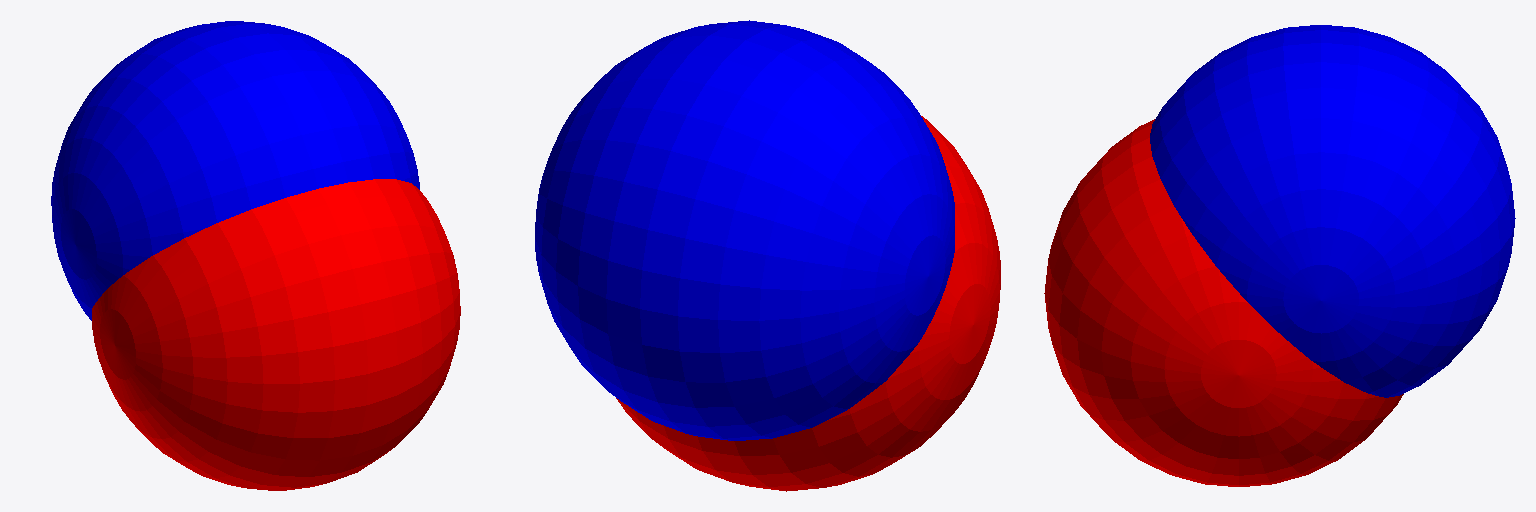
The robot description file, URDF, robot "panda":
<?xml version="1.0" ?>
<robot name="panda" xmlns:xacro="http://www.ros.org/wiki/xacro">
    <link name="panda_link0">
        <visual>
            <geometry>
                <mesh filename="../../urdf/franka_description/meshes/visual/link0.dae"/>
            </geometry>
        </visual>
        <collision>
            <geometry>
                <mesh filename="../../urdf/franka_description/meshes/collision/link0.obj"/>
            </geometry>
        </collision>
    </link>
    <link name="panda_link1">
        <visual>
            <geometry>
                <mesh filename="../../urdf/franka_description/meshes/visual/link1.dae"/>
            </geometry>
        </visual>
        <collision>
            <geometry>
                <mesh filename="../../urdf/franka_description/meshes/collision/link1.obj"/>
            </geometry>
        </collision>
    </link>
    <joint name="panda_joint1" type="revolute">
        <origin rpy="0 0 0" xyz="0 0 0.333"/>
        <parent link="panda_link0"/>
        <child link="panda_link1"/>
        <axis xyz="0 0 1"/>
        <dynamics damping="10.0"/>
        <limit effort="87" lower="-2.8973" upper="2.8973" velocity="2.1750"/>
    </joint>
    <link name="panda_link2">
        <visual>
            <geometry>
                <mesh filename="../../urdf/franka_description/meshes/visual/link2.dae"/>
            </geometry>
        </visual>
        <collision>
            <geometry>
                <mesh filename="../../urdf/franka_description/meshes/collision/link2.obj"/>
            </geometry>
        </collision>
    </link>
    <joint name="panda_joint2" type="revolute">
        <origin rpy="-1.57079632679 0 0" xyz="0 0 0"/>
        <parent link="panda_link1"/>
        <child link="panda_link2"/>
        <axis xyz="0 0 1"/>
        <dynamics damping="10.0"/>
        <limit effort="87" lower="-1.7628" upper="1.7628" velocity="2.1750"/>
    </joint>
    <link name="panda_link3">
        <visual>
            <geometry>
                <mesh filename="../../urdf/franka_description/meshes/visual/link3.dae"/>
            </geometry>
        </visual>
        <collision>
            <geometry>
                <mesh filename="../../urdf/franka_description/meshes/collision/link3.obj"/>
            </geometry>
        </collision>
    </link>
    <joint name="panda_joint3" type="revolute">
        <origin rpy="1.57079632679 0 0" xyz="0 -0.316 0"/>
        <parent link="panda_link2"/>
        <child link="panda_link3"/>
        <axis xyz="0 0 1"/>
        <dynamics damping="10.0"/>
        <limit effort="87" lower="-2.8973" upper="2.8973" velocity="2.1750"/>
    </joint>
    <link name="panda_link4">
        <visual>
            <geometry>
                <mesh filename="../../urdf/franka_description/meshes/visual/link4.dae"/>
            </geometry>
        </visual>
        <collision>
            <geometry>
                <mesh filename="../../urdf/franka_description/meshes/collision/link4.obj"/>
            </geometry>
        </collision>
    </link>
    <joint name="panda_joint4" type="revolute">
        <origin rpy="1.57079632679 0 0" xyz="0.0825 0 0"/>
        <parent link="panda_link3"/>
        <child link="panda_link4"/>
        <axis xyz="0 0 1"/>    
        <dynamics damping="10.0"/>
        <limit effort="87" lower="-3.0718" upper="-0.0698" velocity="2.1750"/>
    </joint>
    <link name="panda_link5">
        <visual>
            <geometry>
                <mesh filename="../../urdf/franka_description/meshes/visual/link5.dae"/>
            </geometry>
        </visual>
        <collision>
            <geometry>
                <mesh filename="../../urdf/franka_description/meshes/collision/link5.obj"/>
            </geometry>
        </collision>
    </link>
    <joint name="panda_joint5" type="revolute">
        <origin rpy="-1.57079632679 0 0" xyz="-0.0825 0.384 0"/>
        <parent link="panda_link4"/>
        <child link="panda_link5"/>
        <axis xyz="0 0 1"/>
        <dynamics damping="10.0"/>
        <limit effort="12" lower="-2.8973" upper="2.8973" velocity="2.6100"/>
    </joint>
    <link name="panda_link6">
        <visual>
            <geometry>
                <mesh filename="../../urdf/franka_description/meshes/visual/link6.dae"/>
            </geometry>
        </visual>
        <collision>
            <geometry>
                <mesh filename="../../urdf/franka_description/meshes/collision/link6.obj"/>
            </geometry>
        </collision>
    </link>
    <joint name="panda_joint6" type="revolute">
        <origin rpy="1.57079632679 0 0" xyz="0 0 0"/>
        <parent link="panda_link5"/>
        <child link="panda_link6"/>
        <axis xyz="0 0 1"/>
        <dynamics damping="10.0"/>
        <limit effort="12" lower="-0.0175" upper="3.7525" velocity="2.6100"/>
    </joint>
    <link name="panda_link7">
        <visual>
            <geometry>
                <mesh filename="../../urdf/franka_description/meshes/visual/link7.dae"/>
            </geometry>
        </visual>
        <collision>
            <geometry>
                <mesh filename="../../urdf/franka_description/meshes/collision/link7.obj"/>
            </geometry>
        </collision>
    </link>
    <joint name="panda_joint7" type="revolute">
        <origin rpy="1.57079632679 0 0" xyz="0.088 0 0"/>
        <parent link="panda_link6"/>
        <child link="panda_link7"/>
        <axis xyz="0 0 1"/>
        <!--<dynamics damping="10.0"/>-->
        <!--<limit effort="12" lower="-2.8973" upper="2.8973" velocity="2.6100"/>-->
    </joint>
    <!--
    <link name="panda_link8"/>
    <joint name="panda_joint8" type="fixed">
        <origin rpy="0 0 0" xyz="0 0 0.107"/>
        <parent link="panda_link7"/>
        <child link="panda_link8"/>
        <axis xyz="0 0 0"/>
    </joint>
    -->
    <joint name="panda_hand_joint" type="fixed">
        <parent link="panda_link7"/>
        <child link="panda_hand"/>
        <origin rpy="0 0 -0.785398163397" xyz="0 0 0.107"/>
    </joint>
    <link name="panda_hand">
        <visual>
            <geometry>
                <mesh filename="../../urdf/franka_description/meshes/visual/hand.dae"/>
            </geometry>
        </visual>
        <collision>
            <geometry>
                <mesh filename="../../urdf/franka_description/meshes/collision/hand.obj"/>
            </geometry>
        </collision>
    </link>
    <joint name="panda_finger_joint1" type="prismatic">
        <parent link="panda_hand"/>
        <child link="panda_leftfinger"/>
        <origin rpy="0 0 0" xyz="0 0 0.0584"/>
        <axis xyz="0 1 0"/>
        <dynamics damping="10.0"/>
        <limit effort="200" lower="0.0" upper="0.04" velocity="0.2"/>
    </joint>
    <joint name="panda_finger_joint2" type="prismatic">
        <parent link="panda_hand"/>
        <child link="panda_rightfinger"/>
        <origin rpy="0 0 0" xyz="0 0 0.0584"/>
        <axis xyz="0 -1 0"/>
        <dynamics damping="10.0"/>
        <limit effort="200" lower="0.0" upper="0.04" velocity="0.2"/>
    </joint>
    <link name="panda_leftfinger">
        <visual>
            <geometry>
                <mesh filename="../../urdf/franka_description/meshes/visual/finger.dae"/>
            </geometry>
        </visual>
        <collision>
            <geometry>
                <mesh filename="../mesh/factory_franka_table/factory_franka_finger_coll_subdiv_6x.obj"/>
                <!-- <mesh filename="../mesh/factory_franka_table/finger.obj"/> -->
            </geometry>
        </collision>
    </link>
    <link name="panda_rightfinger">
        <visual>
            <origin rpy="0 0 3.14159265359" xyz="0 0 0"/>
            <geometry>
                <mesh filename="../../urdf/franka_description/meshes/visual/finger.dae"/>
            </geometry>
        </visual>
        <collision>
            <origin rpy="0 0 3.14159265359" xyz="0 0 0"/>
            <geometry>
                <mesh filename="../mesh/factory_franka_table/factory_franka_finger_coll_subdiv_6x.obj"/>
                <!-- <mesh filename="../mesh/factory_franka_table/finger.obj"/> -->
            </geometry>
        </collision>
    </link>

    <!--Used for calculating pose and Jacobian.
    Joint connects hand to dummy link located at midpoint between bottoms of fingertips (when centered).-->
    <joint name="panda_fingertip_centered_joint" type="fixed">
        <parent link="panda_hand"/>
        <child link="panda_fingertip_centered"/>
        <!--0.0584 (franka_hand_length) + 0.04486700 (franka_finger_length) + 0.01760800 * 0.5 (franka_fingerpad_length * 0.5) = 0.112071-->
        <origin rpy="0 0 0" xyz="0 0 0.112071"/>
    </joint>
    <link name="panda_fingertip_centered"/>

    <joint name="panda_leftfinger_tip_joint" type="fixed">
        <parent link="panda_leftfinger"/>
        <child link="panda_leftfinger_tip"/>
        <origin rpy="0 0 0" xyz="0.0 0.0015 0.0441"/>
    </joint>
    <link name="panda_leftfinger_tip">
        <visual>
            <geometry>
                <sphere radius="0.005"/>
            </geometry>
            <material name="left"><color rgba="1.0 0.0 0.0 1.0"/></material>
        </visual>
    </link>

    <joint name="panda_rightfinger_tip_joint" type="fixed">
        <parent link="panda_rightfinger"/>
        <child link="panda_rightfinger_tip"/>
        <origin rpy="0 0 0" xyz="0.0 -0.0015 0.0441"/>
    </joint>
    <link name="panda_rightfinger_tip">
        <visual>
            <geometry>
                <sphere radius="0.005"/>
            </geometry>
            <material name="right"><color rgba="0.0 0.0 1.0 1.0"/></material>
        </visual>
    </link>


</robot>

--- What the picture shows (computed from the rendered views, not written in the file) ---
3 views of the same robot in one strip: view 1: azimuth 30°, elevation 25°; view 2: azimuth 150°, elevation 25°; view 3: azimuth 270°, elevation 25° (orthographic).
Model panda with 14 links and 13 joints (7 revolute, 2 prismatic, 4 fixed), rooted at panda_link0, posed all joints at 0 but 1 set to mid-range because 0 is outside their limits (panda_joint4 = -1.57).
Links seen in each view (by area): view 1: panda_leftfinger_tip, panda_rightfinger_tip; view 2: panda_rightfinger_tip, panda_leftfinger_tip; view 3: panda_rightfinger_tip, panda_leftfinger_tip.
Boxes of the visible links, x1,y1,x2,y2 form: panda_leftfinger_tip: (92, 179, 460, 490); panda_rightfinger_tip: (51, 21, 419, 320); panda_rightfinger_tip: (535, 20, 954, 440); panda_leftfinger_tip: (616, 116, 1000, 491); panda_rightfinger_tip: (1150, 25, 1515, 397); panda_leftfinger_tip: (1044, 119, 1403, 486).
Size in the robot's own frame: 0.01 by 0.0121 by 0.0121 metres.
Meshes: 10 distinct files referenced, 0 mesh visuals loaded (none loaded); not drawn: 11 (reference not matched to a file when rendering).